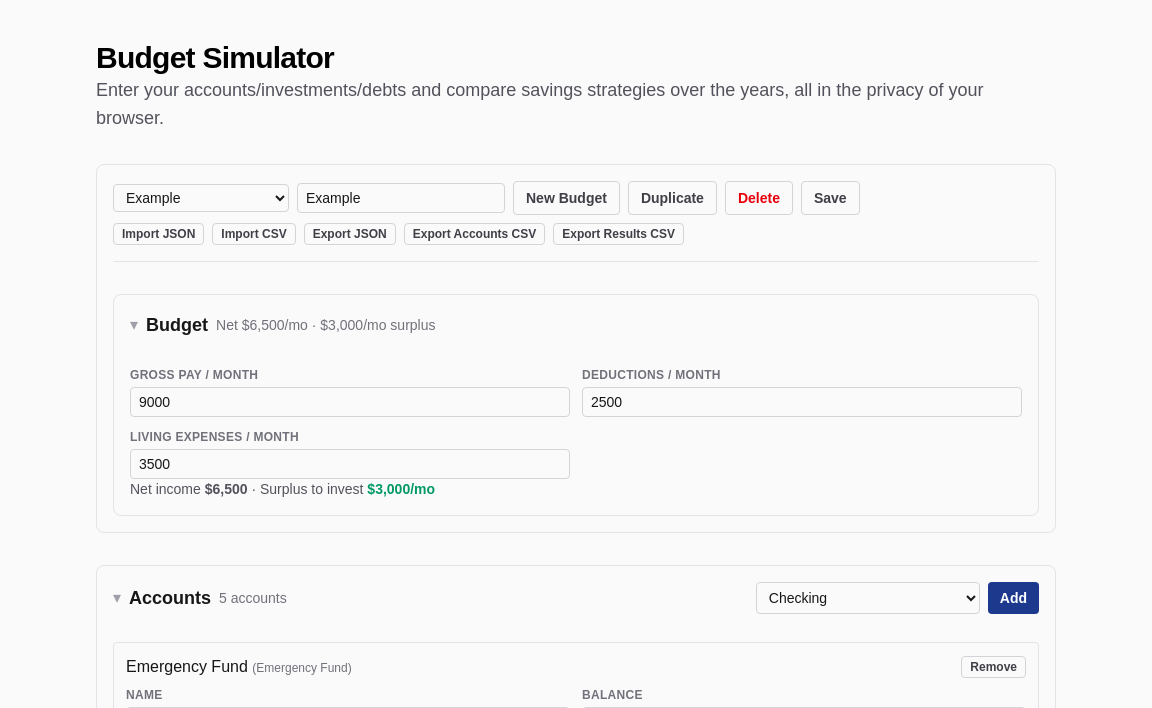
it: Home › duplicates the active budget
The image size is (1152, 708).
Click the button "Duplicate".
click(672, 198)  # box [628,181,717,215]
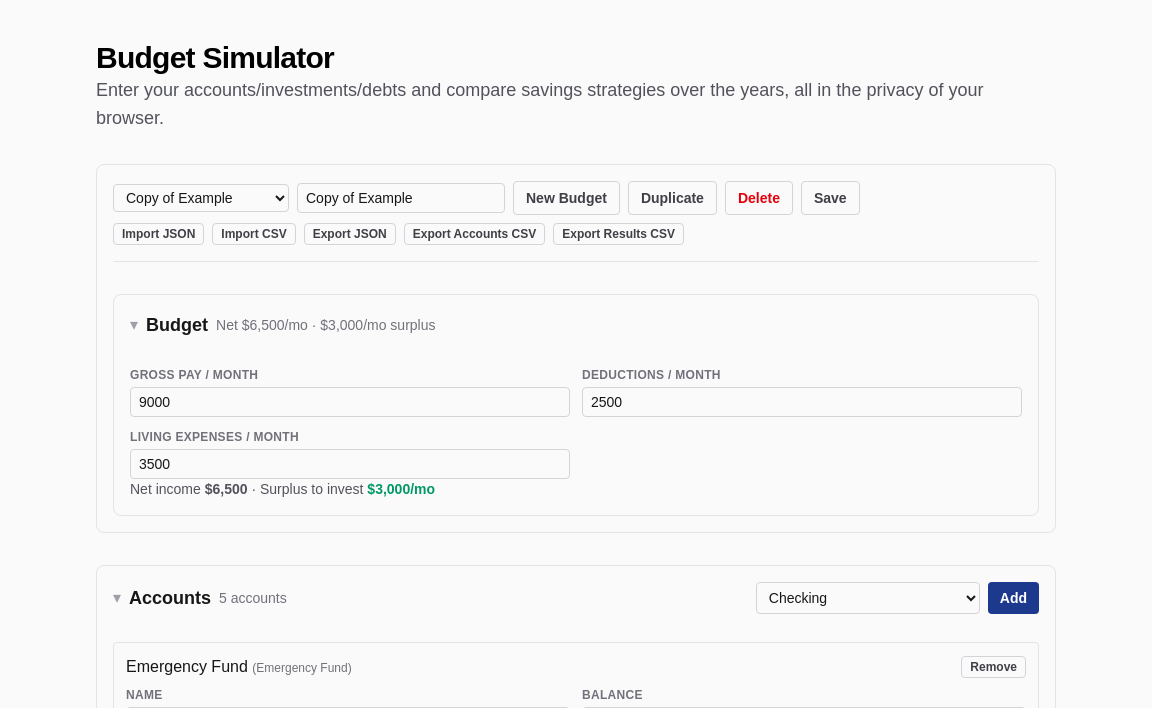
Check: the field named "Budget name" holds "Copy of Example", box [297,183,505,213]
